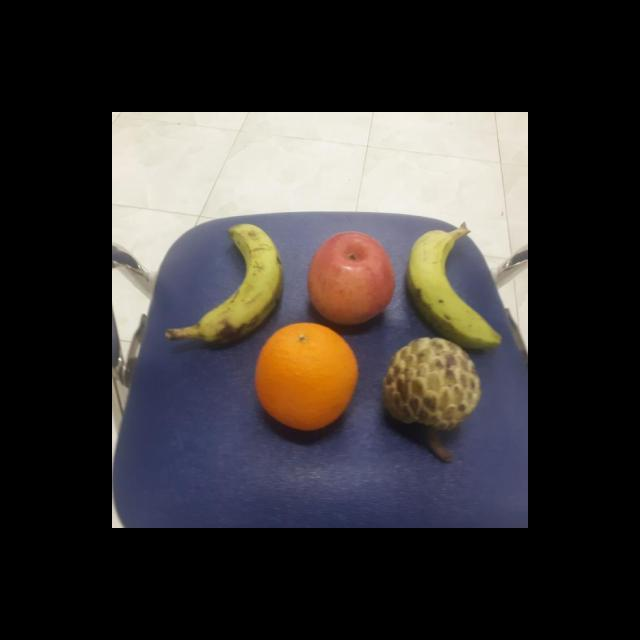apple: (304, 230, 397, 326)
banana: (404, 225, 504, 348), (192, 220, 286, 344)
orange: (253, 320, 362, 434)
